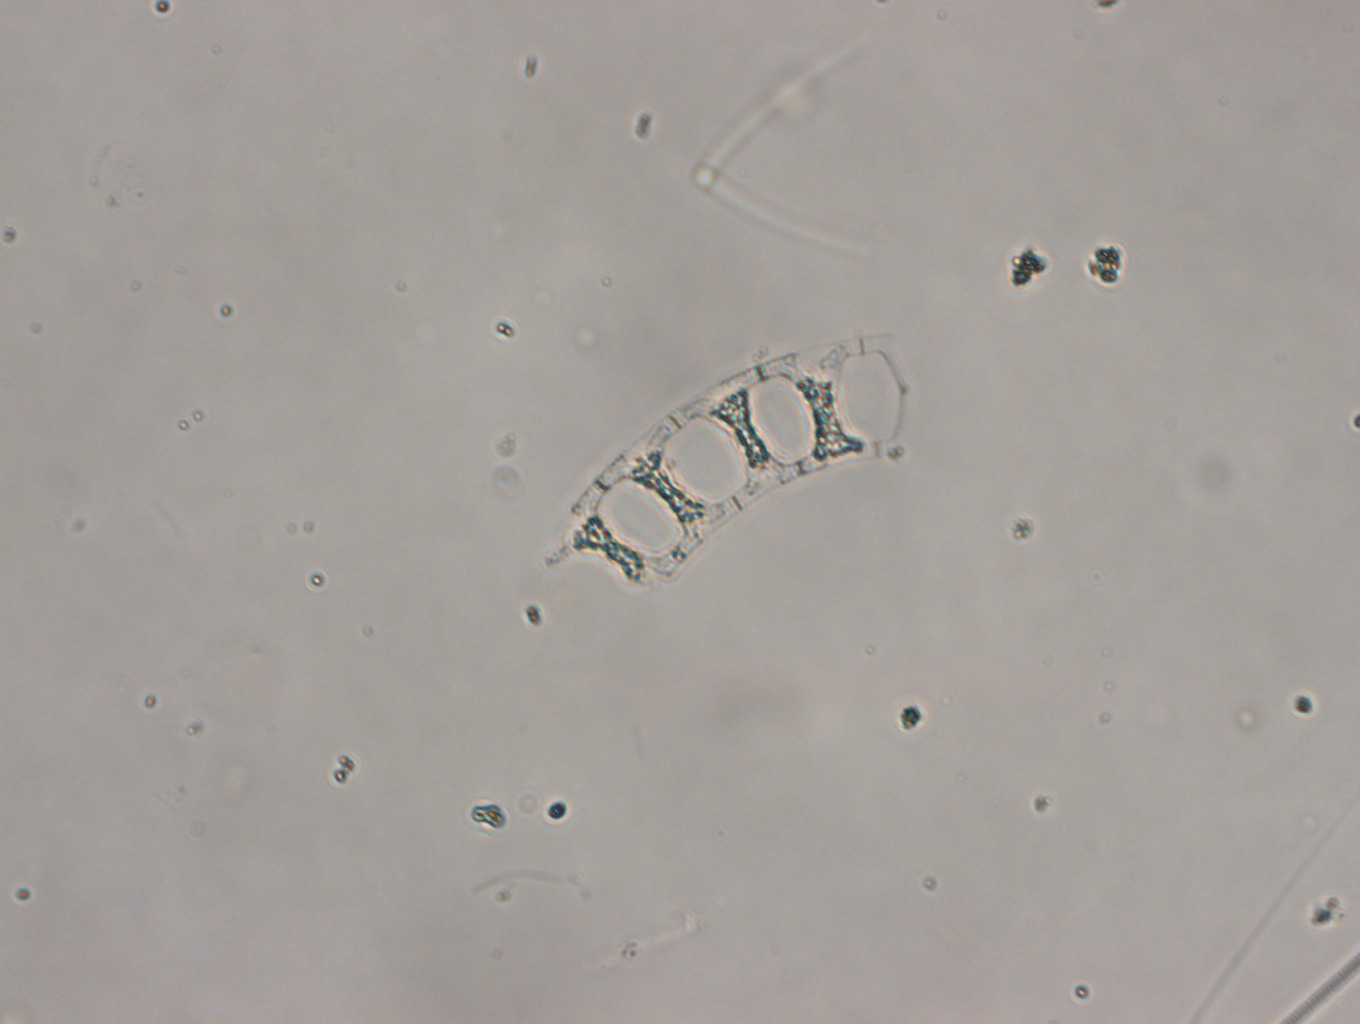eucampia: (550, 328, 911, 580)
